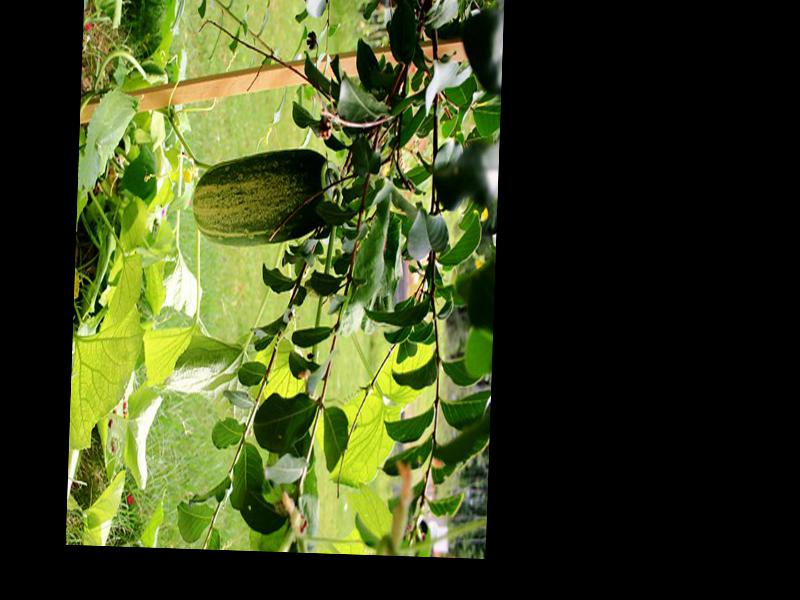Cucumber: (190, 143, 342, 247)
